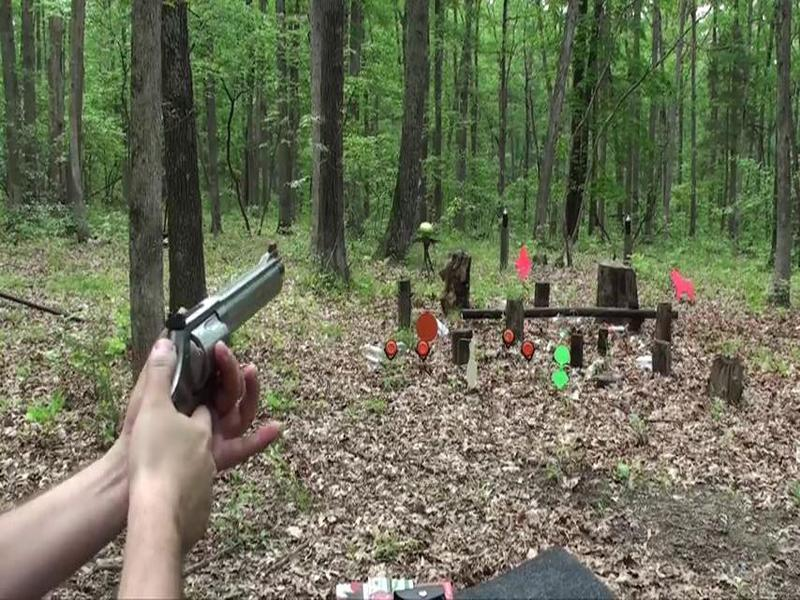Revolver: (145, 252, 298, 431)
